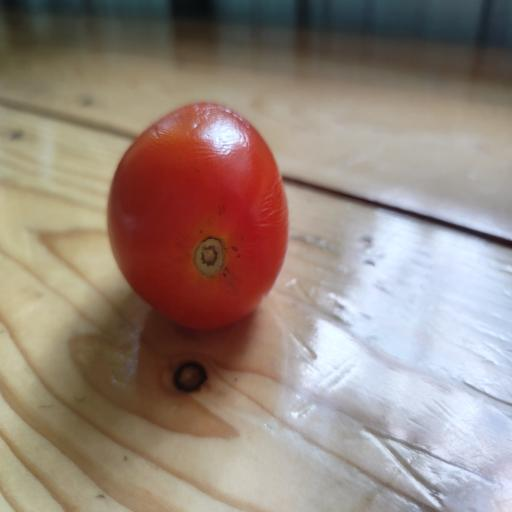spoiled: (108, 103, 288, 328)
